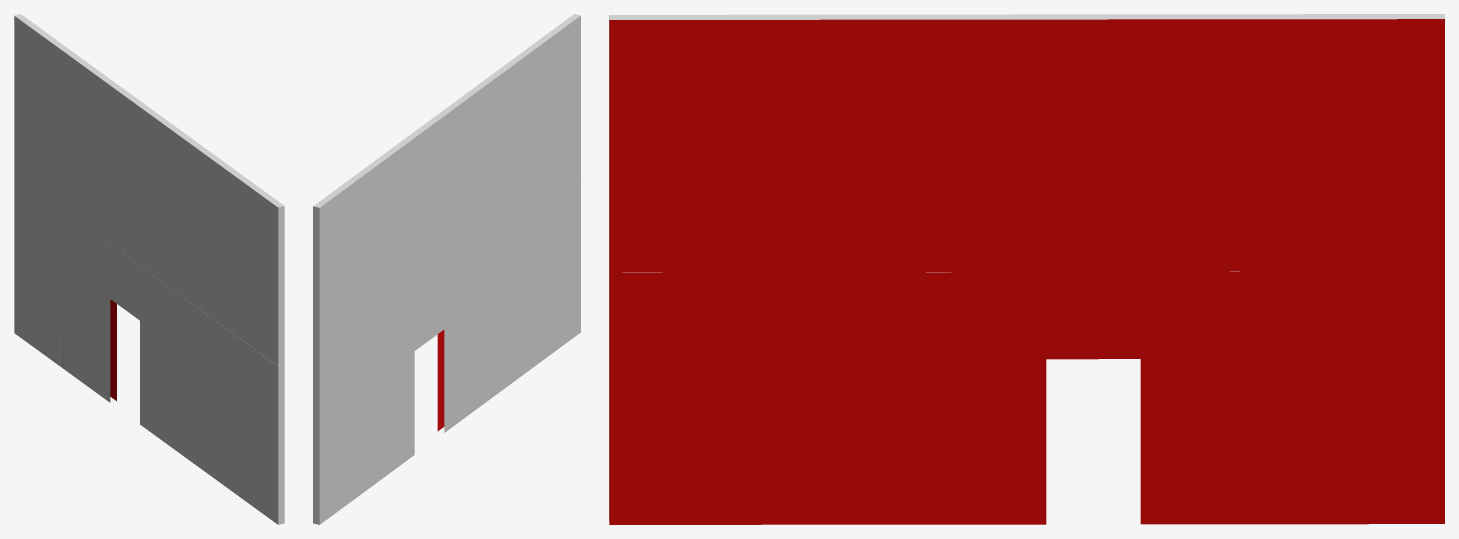
The model's file is Parede CORRIGIDA.fbx.
3 renders of one model, left to right at view 1: azimuth 30°, elevation 25°; view 2: azimuth 150°, elevation 25°; view 3: azimuth 270°, elevation 25°, orthographic. The views are drawn at different scales.
Visible parts, largest first — view 1: Parede157, Parede167; view 2: Parede157, Parede167; view 3: Parede157, Parede167.
Boxes of the visible parts, x1,y1,x2,y2 form: Parede157: (14,14,284,366); Parede167: (14,174,284,524); Parede157: (313,14,580,366); Parede167: (313,174,580,524); Parede157: (609,14,1444,272); Parede167: (609,268,1444,524).
Size of the model in its own units: 0.1521 by 5.92 by 8.88.
